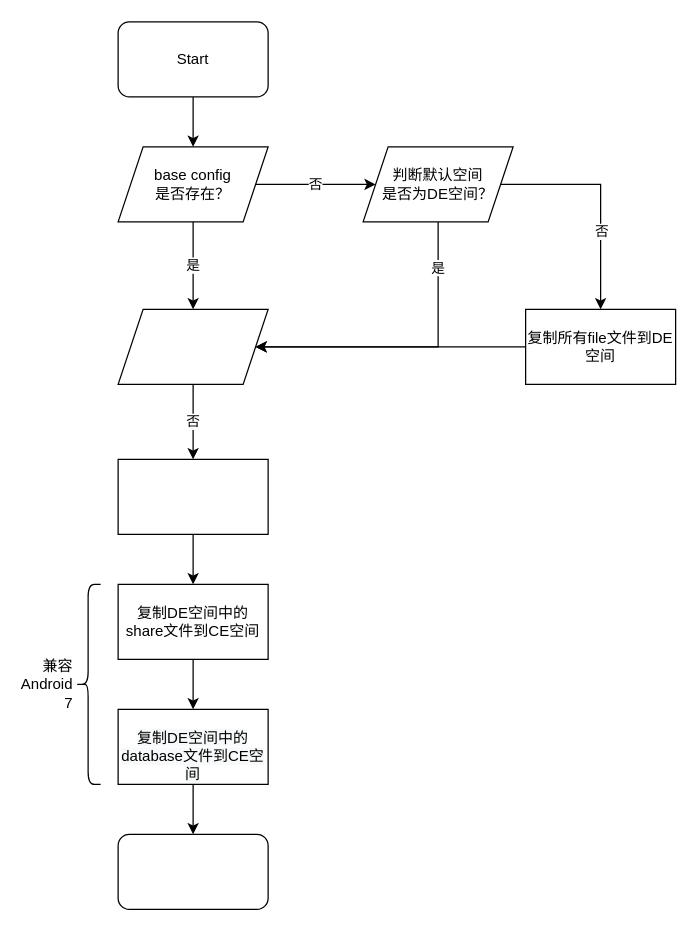
This 698x931 diagram has some shape labels left out. Here are the shapes that lost their labels. From the top down, the centre of each, then its label:
point 192,346: DE空间获取是否kitting？
point 192,496: 将CE空间文件移动至DE空间
point 192,871: End
